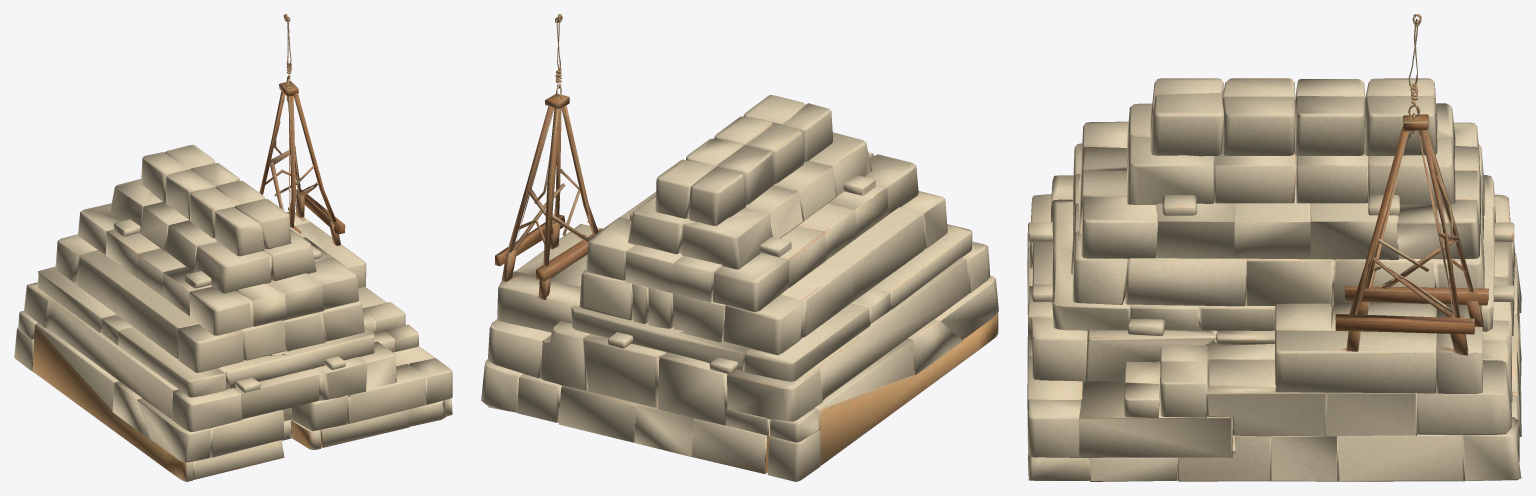
The model's file is quarry.glb.
3 views of the same model, side by side, from view 1: azimuth 30°, elevation 25°; view 2: azimuth 150°, elevation 25°; view 3: azimuth 270°, elevation 25° (orthographic). The views are drawn at different scales.
Size of the model in its own units: 0.875 by 0.9541 by 0.9517.
Materials: 1 (1 with a texture image).
